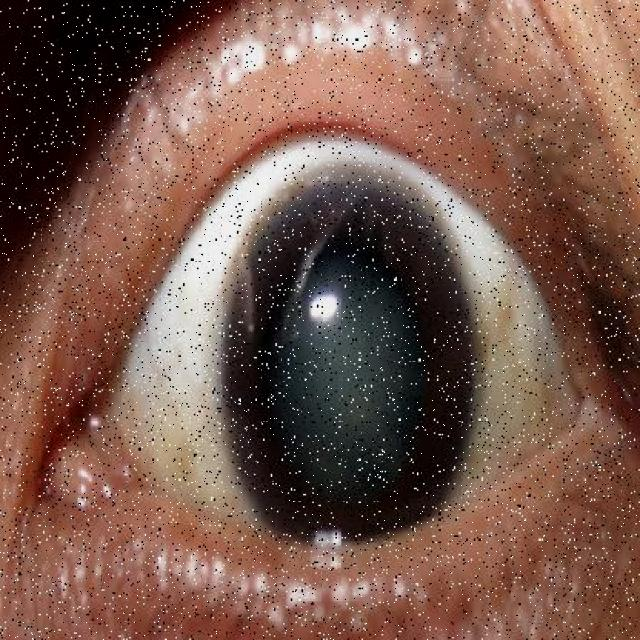Cataract: (220, 194, 471, 551)
